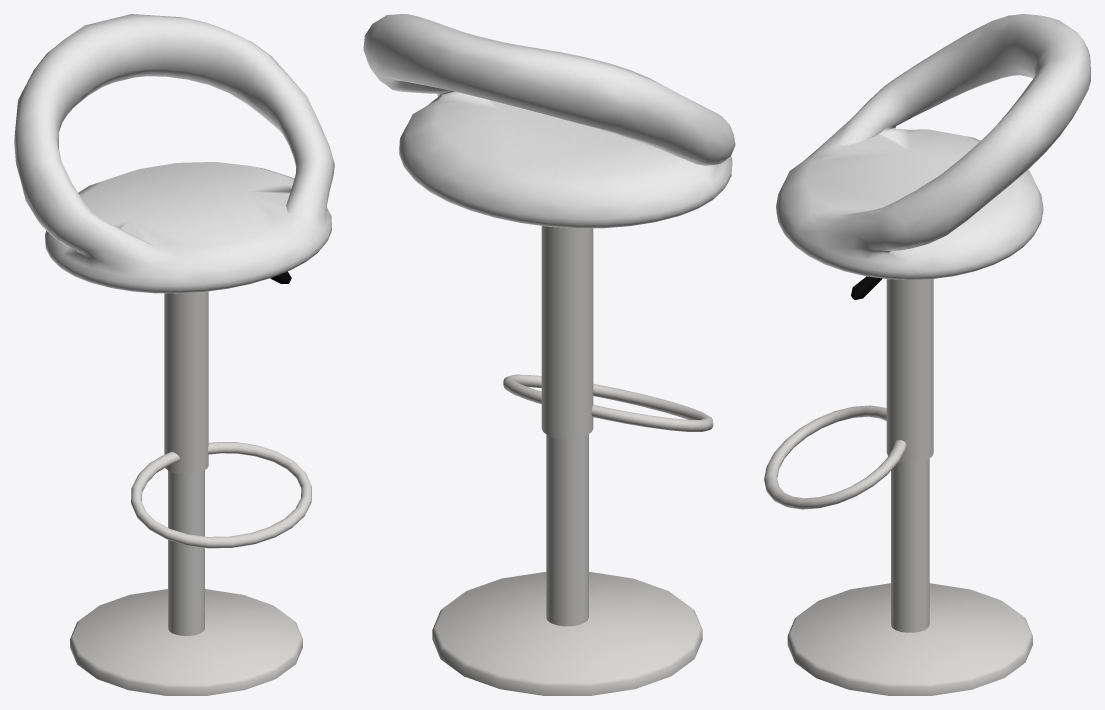
File: BarChair03.FBX
The picture shows the model from 3 angles, left to right: view 1: azimuth 30°, elevation 25°; view 2: azimuth 150°, elevation 25°; view 3: azimuth 270°, elevation 25°; orthographic projection. The views are drawn at different scales.
Visible parts, largest first — view 1: BarChair03; view 2: BarChair03; view 3: BarChair03.
Boxes of the visible parts, x1,y1,x2,y2 form: BarChair03: (14, 14, 334, 695); BarChair03: (363, 14, 735, 695); BarChair03: (764, 14, 1090, 695).
Size of the model in its own units: 55.37 by 104 by 51.34.
